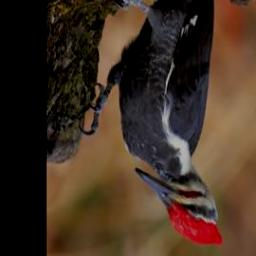Woodpecker: (77, 0, 223, 249)
